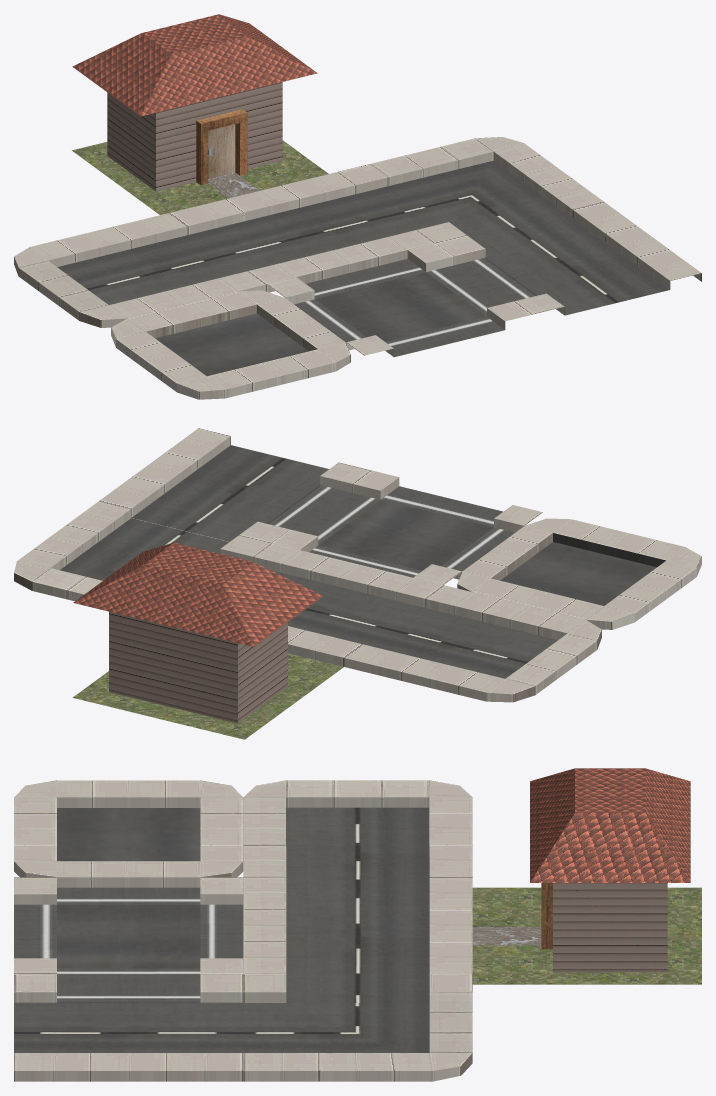
File: basic building and road models for city building.glb
3 renders of one model, top to bottom at view 1: azimuth 30°, elevation 25°; view 2: azimuth 150°, elevation 25°; view 3: azimuth 270°, elevation 25°, orthographic. The views are drawn at different scales.
Visible parts, largest first — view 1: house, Plane.006, Plane.004, Plane.001, Plane.005, Plane.002, Plane.003; view 2: house, Plane.002, Plane.005, Plane.006, Plane.003, Plane.001, Plane.004; view 3: house, Plane.002, Plane.006, Plane.005, Plane.004, Plane.001, Plane.003.
Part boxes in pixels (<box>): house: <box>72,14,328,214</box>; Plane.006: <box>111,290,350,399</box>; Plane.004: <box>338,137,603,242</box>; Plane.001: <box>169,172,435,292</box>; Plane.005: <box>436,202,701,315</box>; Plane.002: <box>14,213,266,327</box>; Plane.003: <box>267,243,532,357</box>; house: <box>72,542,343,739</box>; Plane.002: <box>344,585,601,702</box>; Plane.005: <box>99,428,370,542</box>; Plane.006: <box>457,518,701,629</box>; Plane.003: <box>272,470,542,584</box>; Plane.001: <box>252,543,443,666</box>; Plane.004: <box>14,501,270,601</box>; house: <box>472,768,701,984</box>; Plane.002: <box>243,780,472,887</box>; Plane.006: <box>14,780,243,887</box>; Plane.005: <box>14,974,243,1081</box>; Plane.004: <box>243,974,472,1081</box>; Plane.001: <box>243,877,472,984</box>; Plane.003: <box>14,877,243,984</box>.
Bounding box in the file's own units: 6 × 1.4 × 6.
11 materials, 11 textured.
